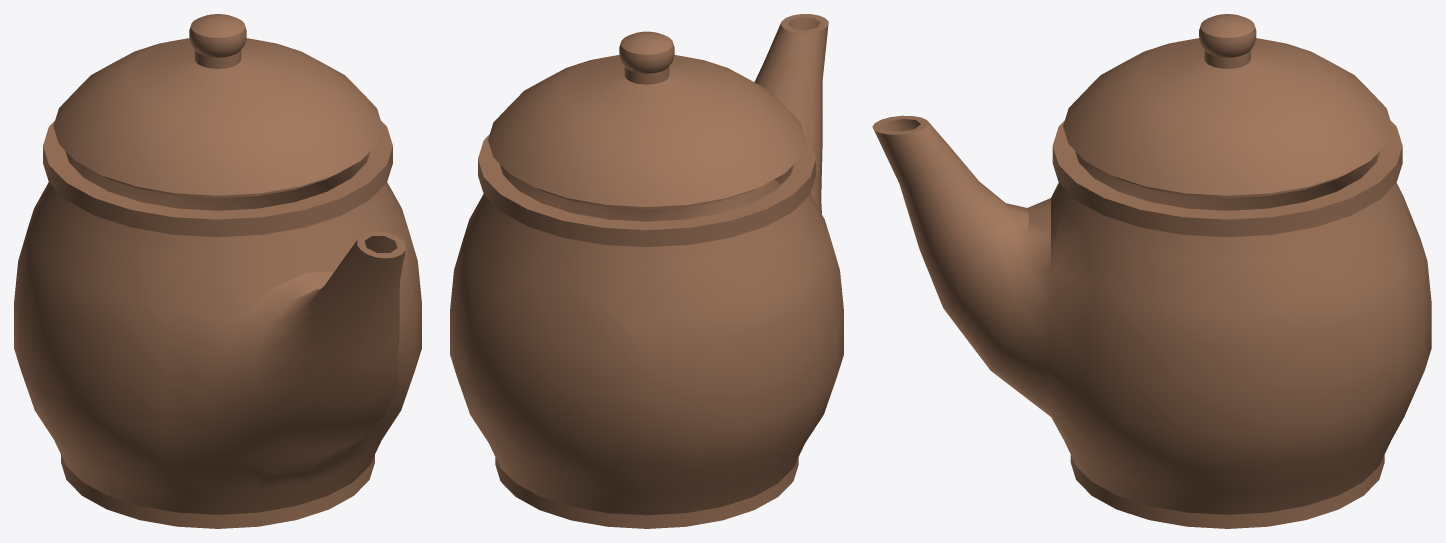
Rendered from chainik.fbx.
3 renders of one model, left to right at view 1: azimuth 30°, elevation 25°; view 2: azimuth 150°, elevation 25°; view 3: azimuth 270°, elevation 25°, orthographic. The views are drawn at different scales.
Visible parts, largest first — view 1: Cylinder, Cylinder.001; view 2: Cylinder, Cylinder.001; view 3: Cylinder, Cylinder.001.
Part boxes in pixels (x1=…): Cylinder: x1=14, y1=121, x2=421, y2=528; Cylinder.001: x1=53, y1=14, x2=382, y2=198; Cylinder: x1=450, y1=14, x2=843, y2=528; Cylinder.001: x1=488, y1=31, x2=805, y2=209; Cylinder: x1=872, y1=115, x2=1431, y2=528; Cylinder.001: x1=1063, y1=14, x2=1392, y2=198.
Bounding box in the file's own units: 1.46 × 1.75 × 2.01.
